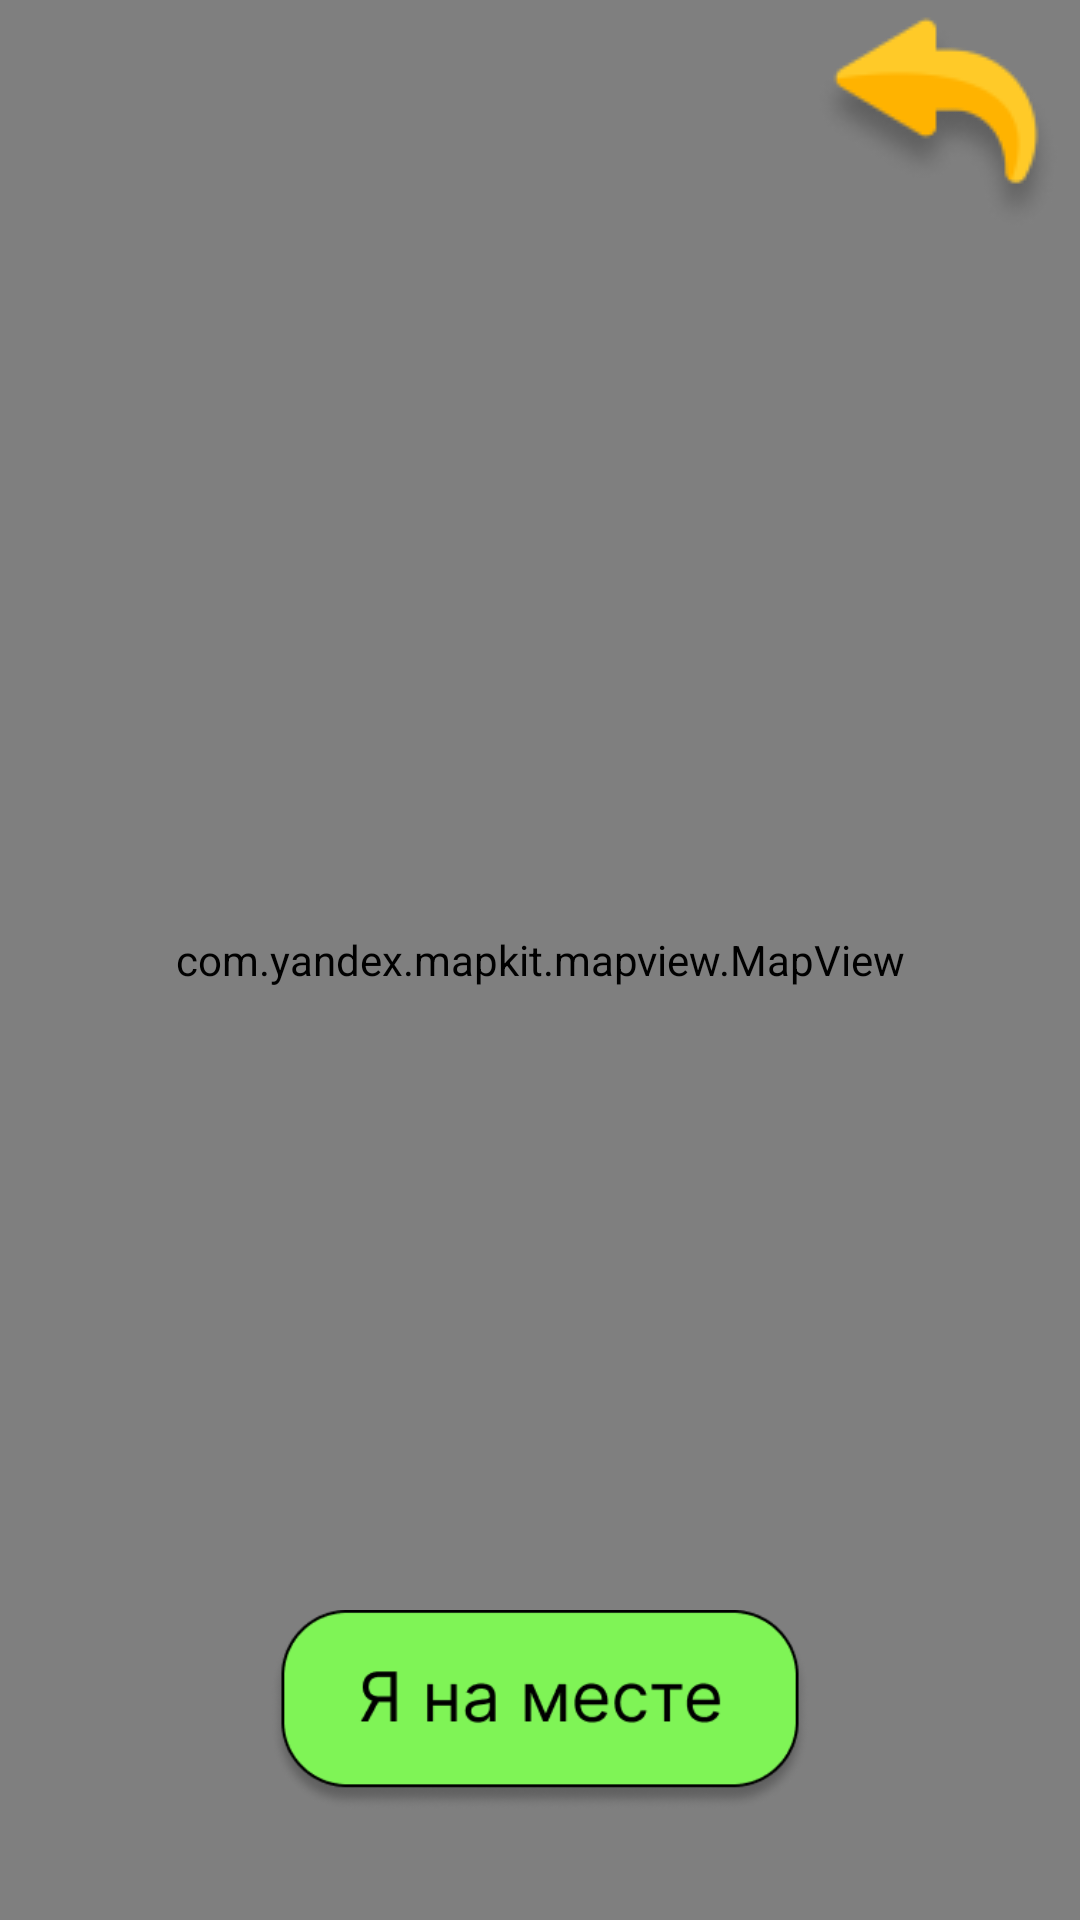

Icons on this 1080px x 1920px Android screen, each with its box as [x1, y1, x2, y2]:
back: [835, 18, 1038, 187]
